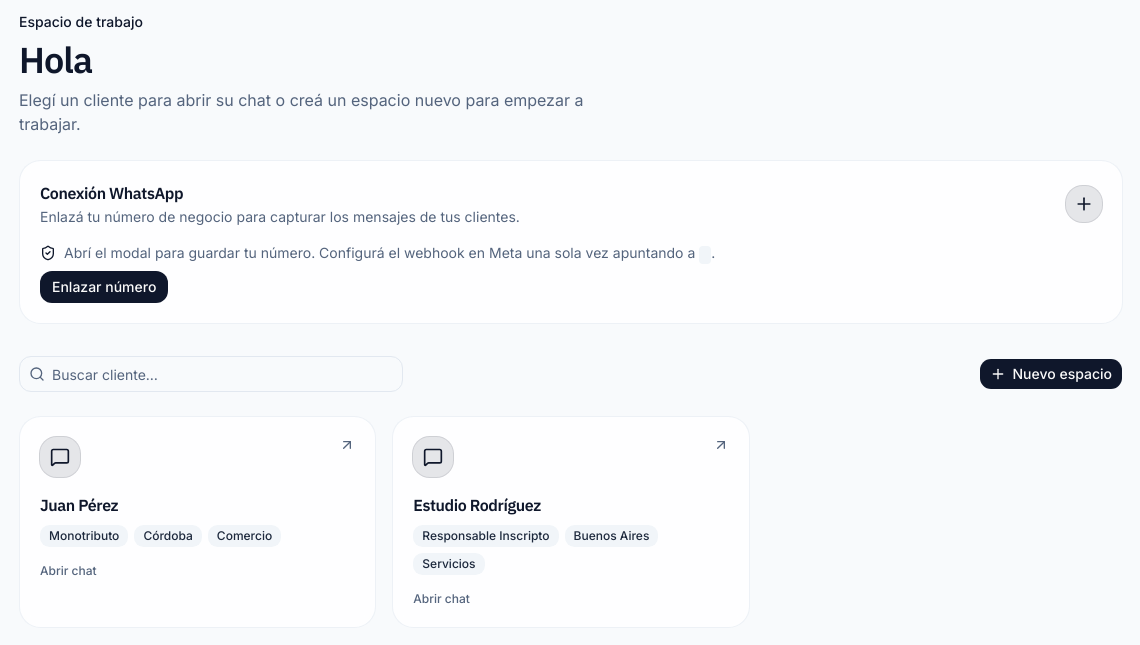
ClientGrid › muestra un estado vacío cuando la búsqueda no coincide
Type "zzz" into the search field labelled "Buscar cliente" at x=211, y=374, box [19,356,403,392]
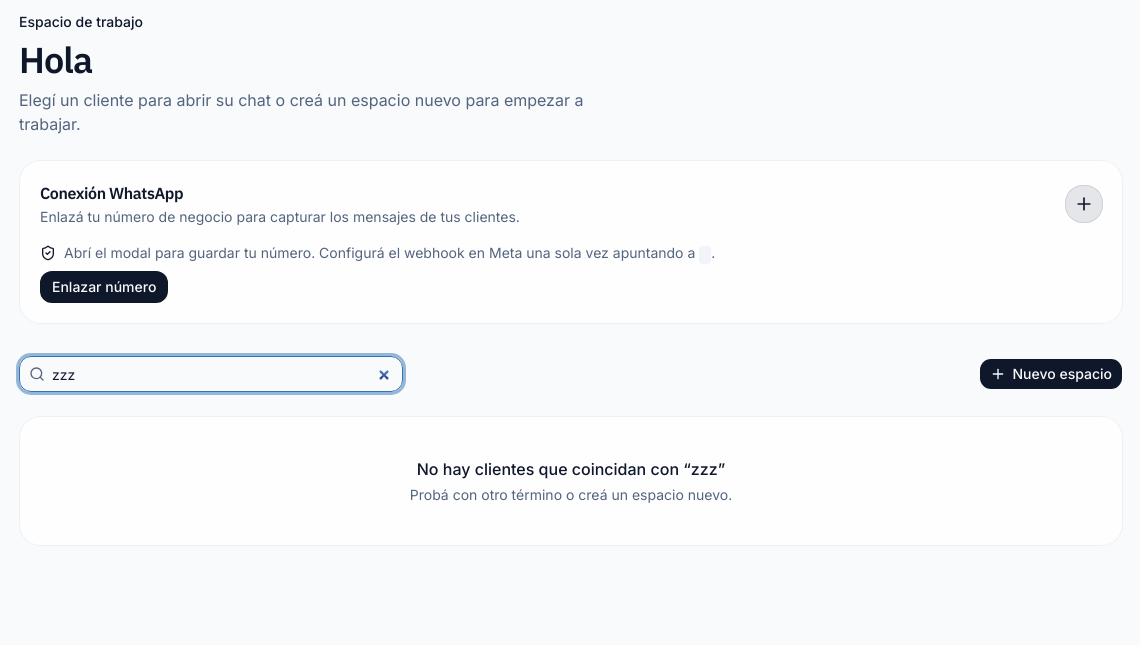
Now the text "No hay clientes que coincidan con “zzz”" is shown, box [417,459,725,479]
